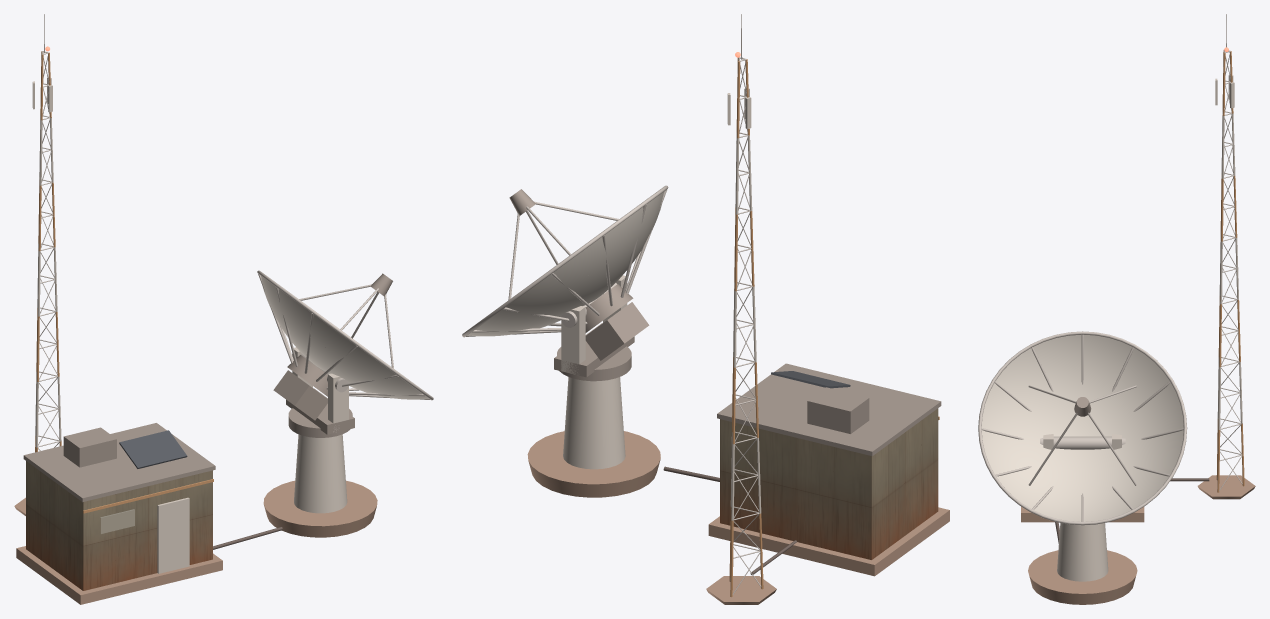
Rendered from E17_communication_station.glb.
The picture shows the model from 3 angles, left to right: view 1: azimuth 30°, elevation 25°; view 2: azimuth 150°, elevation 25°; view 3: azimuth 270°, elevation 25°; orthographic projection. The views are drawn at different scales.
Parts seen in each view (by area): view 1: equipment_building, roof_edge, dish, dish_foundation, pedestal, foundation, door, roof_unit, roof_radiator, counterweight, dish_rim, yoke_arm (+4 smaller); view 2: equipment_building, roof_edge, dish, dish_foundation, pedestal, foundation, roof_unit, counterweight, mast_foundation, yoke_arm, dish_rim, azimuth_bearing (+2 smaller); view 3: dish, dish_foundation, pedestal, dish_rim, mast_foundation, elevation_axle, foundation.
Boxes of the visible parts, x1=… form: equipment_building: x1=26, y1=461, x2=212, y2=590; roof_edge: x1=23, y1=423, x2=215, y2=502; dish: x1=261, y1=276, x2=428, y2=399; dish_foundation: x1=263, y1=480, x2=377, y2=537; pedestal: x1=294, y1=434, x2=347, y2=513; foundation: x1=16, y1=546, x2=222, y2=604; door: x1=157, y1=497, x2=189, y2=573; roof_unit: x1=63, y1=427, x2=116, y2=467; roof_radiator: x1=119, y1=430, x2=187, y2=468; counterweight: x1=273, y1=370, x2=327, y2=420; dish_rim: x1=257, y1=270, x2=433, y2=400; yoke_arm: x1=328, y1=373, x2=348, y2=432; equipment_building: x1=720, y1=408, x2=938, y2=559; roof_edge: x1=717, y1=363, x2=941, y2=456; dish: x1=468, y1=192, x2=663, y2=336; dish_foundation: x1=527, y1=431, x2=660, y2=497; pedestal: x1=563, y1=377, x2=625, y2=469; foundation: x1=708, y1=507, x2=949, y2=576; roof_unit: x1=807, y1=387, x2=869, y2=433; counterweight: x1=585, y1=302, x2=649, y2=360; mast_foundation: x1=706, y1=576, x2=776, y2=604; yoke_arm: x1=561, y1=306, x2=585, y2=374; dish_rim: x1=462, y1=185, x2=668, y2=337; azimuth_bearing: x1=557, y1=346, x2=631, y2=381; dish: x1=981, y1=335, x2=1183, y2=521; dish_foundation: x1=1028, y1=550, x2=1137, y2=604; pedestal: x1=1057, y1=523, x2=1108, y2=581; dish_rim: x1=978, y1=331, x2=1187, y2=525; mast_foundation: x1=1197, y1=475, x2=1255, y2=499; elevation_axle: x1=1040, y1=436, x2=1125, y2=449; foundation: x1=1021, y1=506, x2=1144, y2=522.
Bounding box in the file's own units: 11.85 × 15.3 × 8.1.
12 materials, 1 textured.
